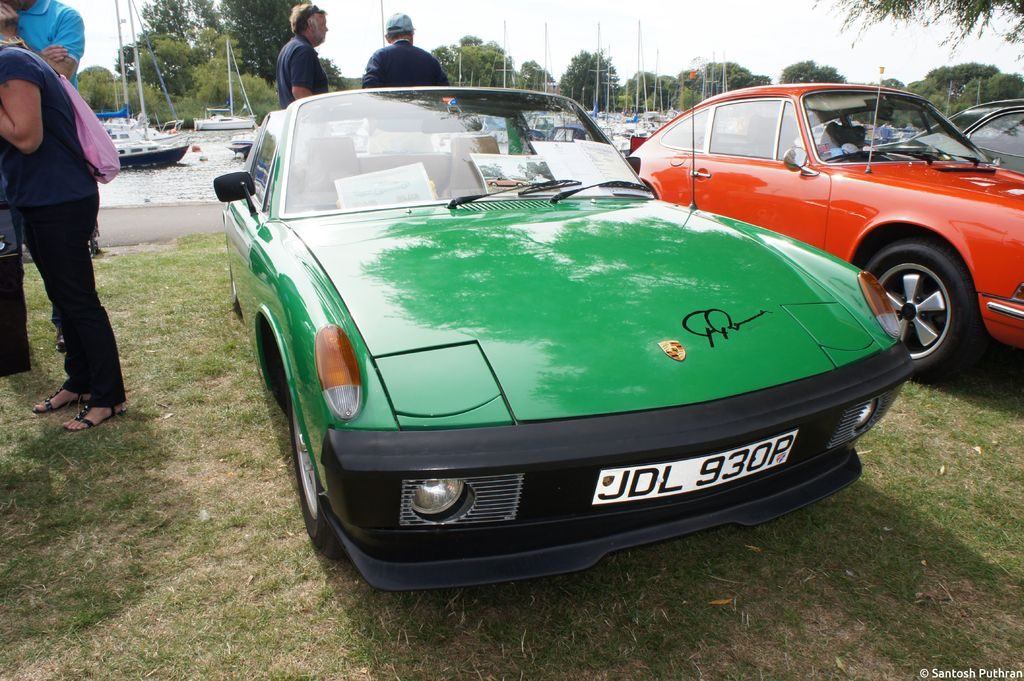Person: (0, 42, 125, 430), (0, 0, 86, 367), (364, 13, 455, 84), (277, 0, 334, 95)
